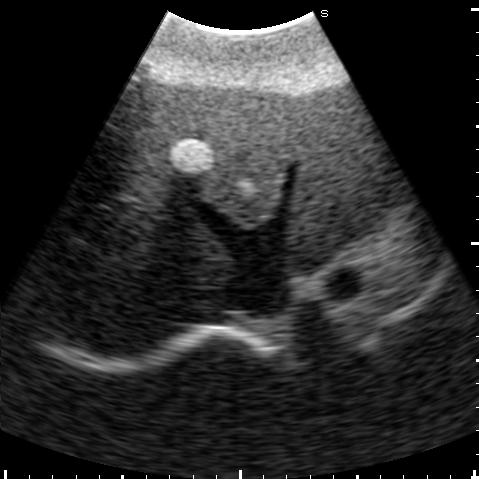S2: (288, 92, 392, 278)
S4: (120, 72, 302, 226)
S7: (37, 249, 174, 358)
S8: (69, 142, 228, 282)
Tumor: (170, 139, 211, 174)
